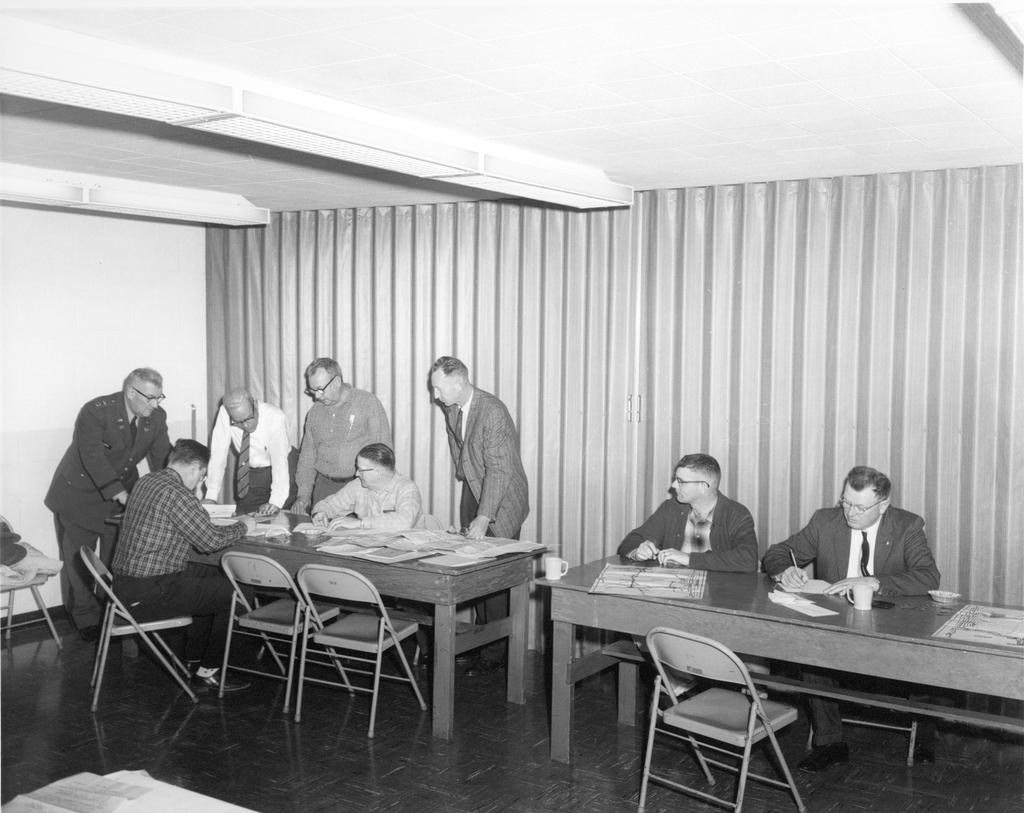Chair: (643, 611, 812, 812), (285, 556, 440, 744), (76, 543, 220, 712), (212, 552, 352, 716)
